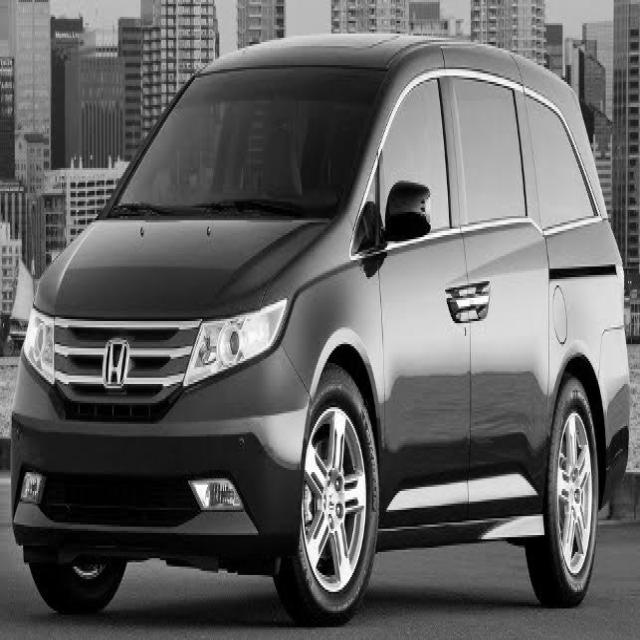car: (9, 29, 630, 624)
